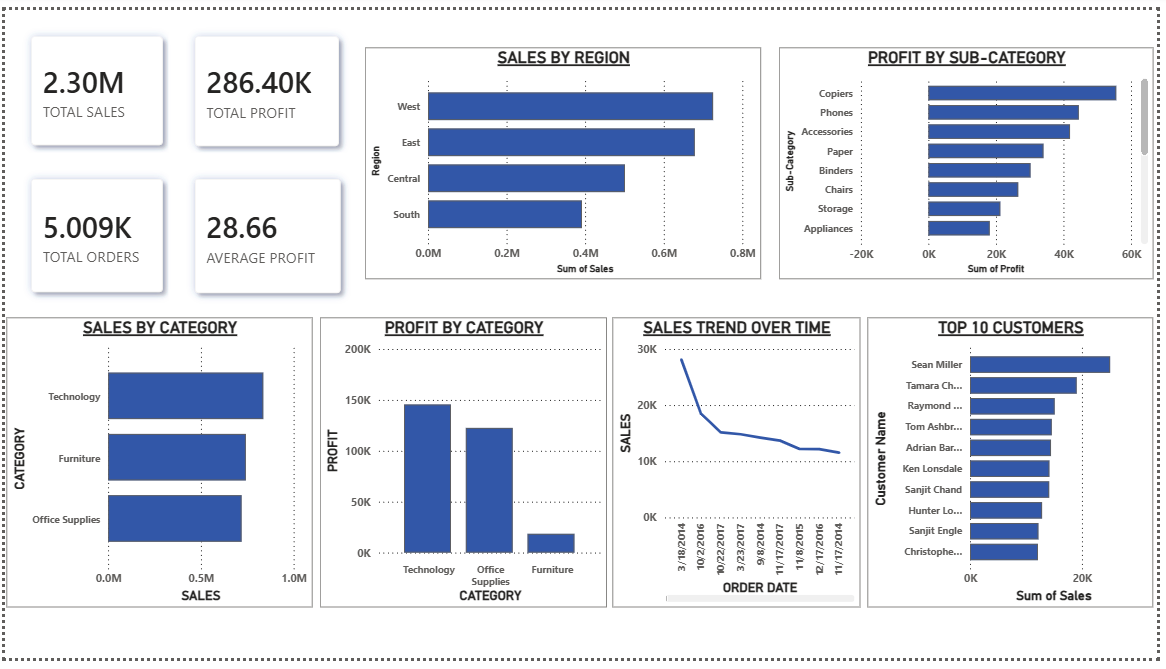

The dashboard page shown, as its layout file describes it:
{"tool":"powerbi","page":{"name":"Page 1","canvas":[1280,720],"ordinal":0},"visuals":[{"type":"cardVisual","fields":{"Data":["Sum(Sample - Superstore.Sales)"]},"box":[0,0,204,179.7],"z":0},{"type":"cardVisual","fields":{"Data":["Sum(Sample - Superstore.Profit)"]},"box":[181.7,0,218.3,180],"z":1000},{"type":"cardVisual","fields":{"Data":["Count(Sample - Superstore.Order ID)"]},"box":[0,158.7,204,184.6],"z":2000},{"type":"cardVisual","fields":{"Data":["Avg(Sample - Superstore.Profit)"]},"box":[181.7,158.3,220,185],"z":3000},{"type":"clusteredBarChart","title":"SALES BY CATEGORY","fields":{"Category":["Sample - Superstore.Category"],"Y":["Sum(Sample - Superstore.Sales)"]},"box":[1.6,341.7,340,322.2],"z":4000},{"type":"clusteredColumnChart","title":"PROFIT BY CATEGORY","fields":{"Category":["Sample - Superstore.Category"],"Y":["Sum(Sample - Superstore.Profit)"]},"box":[349.8,341.7,319,322.2],"z":5000},{"type":"lineChart","title":"SALES TREND OVER TIME","fields":{"Y":["Sum(Sample - Superstore.Sales)"],"Category":["Sample - Superstore.Order Date"]},"box":[675.2,341.7,275.3,322.2],"z":6000},{"type":"barChart","title":"TOP 10 CUSTOMERS","fields":{"Category":["Sample - Superstore.Customer Name"],"Y":["Sum(Sample - Superstore.Sales)"]},"box":[958.6,341.7,317.4,322.2],"z":7000},{"type":"barChart","title":"SALES BY REGION","fields":{"Category":["Sample - Superstore.Region"],"Y":["Sum(Sample - Superstore.Sales)"]},"box":[400.6,41.6,440.3,257],"z":8000},{"type":"barChart","title":"PROFIT  BY SUB-CATEGORY","fields":{"Category":["Sample - Superstore.Sub-Category"],"Y":["Sum(Sample - Superstore.Profit)"]},"box":[859.8,42.1,416.1,257.5],"z":9000}]}

Visuals, with their boxes in screenshot pixels (x1, y1, x2, y2), scaled from the page's 1280x720 canvas onto the 1166x669 screenshot:
cardVisual - Sum(Sample - Superstore.Sales): (0,0,186,167)
cardVisual - Sum(Sample - Superstore.Profit): (166,0,364,167)
cardVisual - Count(Sample - Superstore.Order ID): (0,147,186,319)
cardVisual - Avg(Sample - Superstore.Profit): (166,147,366,319)
"SALES BY CATEGORY" clusteredBarChart: (1,317,311,617)
"PROFIT BY CATEGORY" clusteredColumnChart: (319,317,609,617)
"SALES TREND OVER TIME" lineChart: (615,317,866,617)
"TOP 10 CUSTOMERS" barChart: (873,317,1162,617)
"SALES BY REGION" barChart: (365,39,766,277)
"PROFIT  BY SUB-CATEGORY" barChart: (783,39,1162,278)
